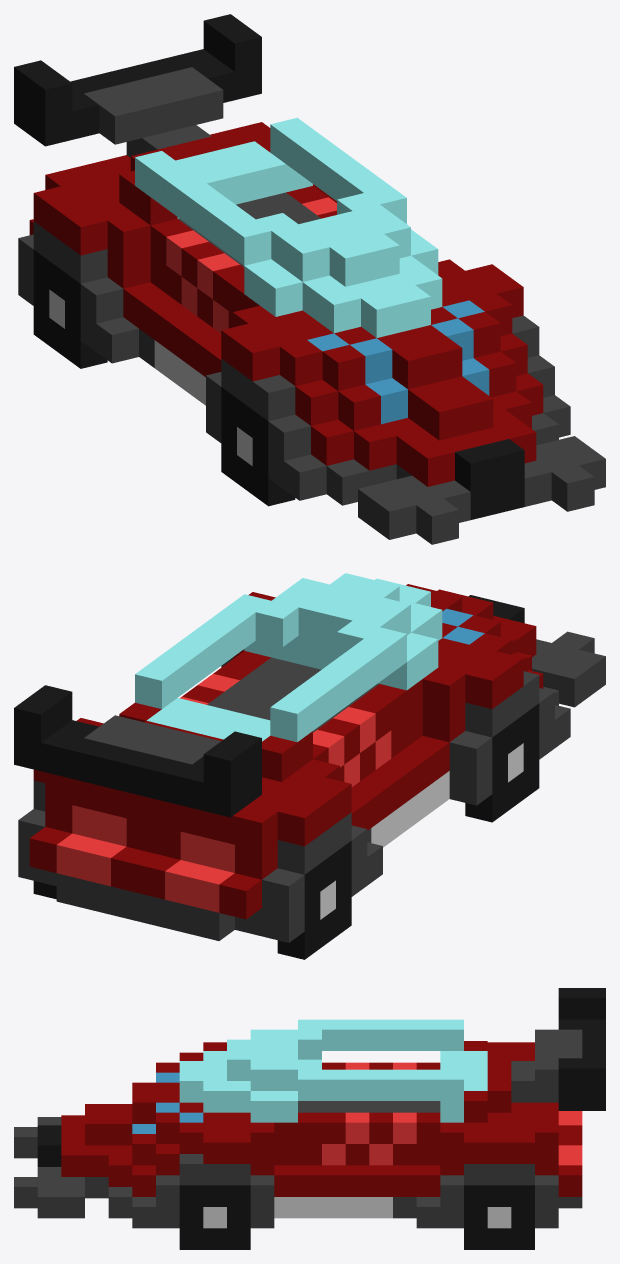
Rendered from lv29 race car.fbx.
The picture shows the model from 3 angles, top to bottom: view 1: azimuth 30°, elevation 25°; view 2: azimuth 150°, elevation 25°; view 3: azimuth 270°, elevation 25°; orthographic projection. The views are drawn at different scales.
Parts seen in each view (by area): view 1: polySurface4056, polySurface3924, polySurface4037, polySurface4344, polySurface3875, polySurface4310, polySurface4290, polySurface4078, polySurface4099, polySurface4350, polySurface4038, polySurface4098 (+93 smaller); view 2: polySurface3848, polySurface4278, polySurface4309, polySurface4095, polySurface4171, polySurface4307, polySurface3983, polySurface4087, polySurface4296, polySurface4295, polySurface3932, polySurface4294 (+96 smaller); view 3: polySurface3876, polySurface3890, polySurface3911, polySurface3959, polySurface3970, polySurface4149, polySurface4165, polySurface4308, polySurface4310, polySurface4324, polySurface4342, polySurface3831 (+112 smaller).
Part boxes in pixels (x1,y1,x2,y2): polySurface4056: (99, 98, 142, 144); polySurface3924: (322, 345, 365, 390); polySurface4037: (423, 394, 466, 440); polySurface4344: (551, 465, 594, 511); polySurface3875: (329, 240, 372, 286); polySurface4310: (29, 72, 72, 117); polySurface4290: (107, 214, 150, 260); polySurface4078: (80, 277, 123, 323); polySurface4099: (295, 380, 338, 425); polySurface4350: (373, 493, 416, 539); polySurface4038: (228, 219, 271, 265); polySurface4098: (252, 375, 295, 421); polySurface3848: (255, 601, 298, 646); polySurface4278: (277, 800, 320, 846); polySurface4309: (203, 743, 246, 788); polySurface4095: (449, 731, 492, 777); polySurface4171: (422, 667, 465, 713); polySurface4307: (14, 696, 56, 742); polySurface3983: (262, 868, 304, 914); polySurface4087: (219, 873, 261, 919); polySurface4296: (135, 663, 177, 708); polySurface4295: (270, 696, 312, 742); polySurface3932: (235, 805, 277, 851); polySurface4294: (465, 663, 507, 708); polySurface3876: (416, 1165, 440, 1196); polySurface3890: (250, 1175, 274, 1206); polySurface3911: (250, 1091, 274, 1122); polySurface3959: (558, 1165, 582, 1196); polySurface3970: (345, 1165, 369, 1196); polySurface4149: (179, 1071, 203, 1102); polySurface4165: (487, 1081, 511, 1112); polySurface4308: (558, 1058, 582, 1089); polySurface4310: (558, 988, 582, 1019); polySurface4324: (108, 1155, 132, 1186); polySurface4342: (37, 1135, 61, 1166); polySurface3831: (416, 1197, 440, 1228).
Bounding box in the file's own units: 10 × 8 × 25.
